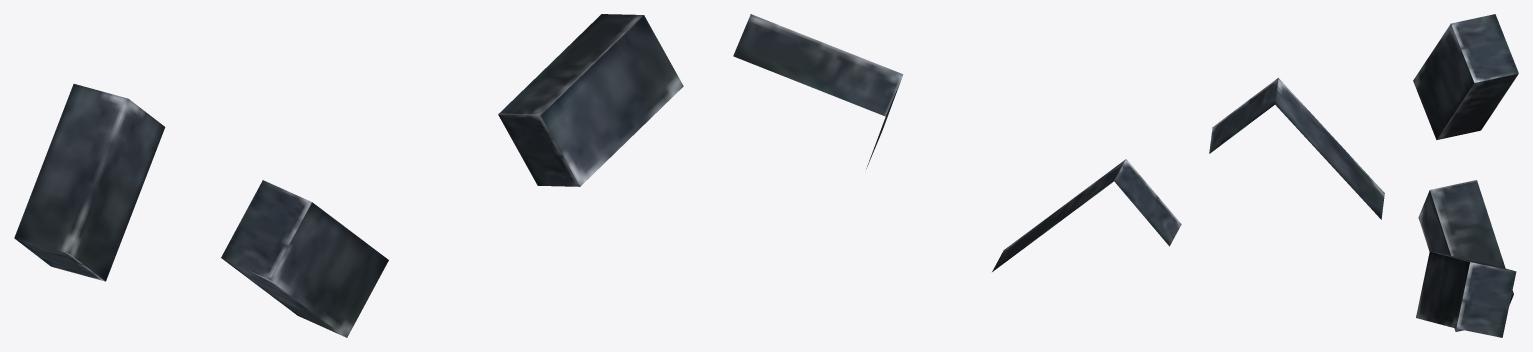
3 views of the same model, side by side, from view 1: azimuth 30°, elevation 25°; view 2: azimuth 150°, elevation 25°; view 3: azimuth 270°, elevation 25° (orthographic). The views are drawn at different scales.
Visible parts, largest first — view 1: model_Object23; view 2: model_Object23; view 3: model_Object23.
Boxes of the visible parts, x1,y1,x2,y2 form: model_Object23: [14, 14, 683, 337]; model_Object23: [733, 14, 1384, 271]; model_Object23: [1413, 14, 1518, 337].
Bounding box in the file's own units: 6.08 × 2.57 × 1.09.
Materials: 1 (1 with a texture image).
